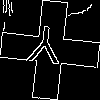Y: (25, 25, 63, 73)
